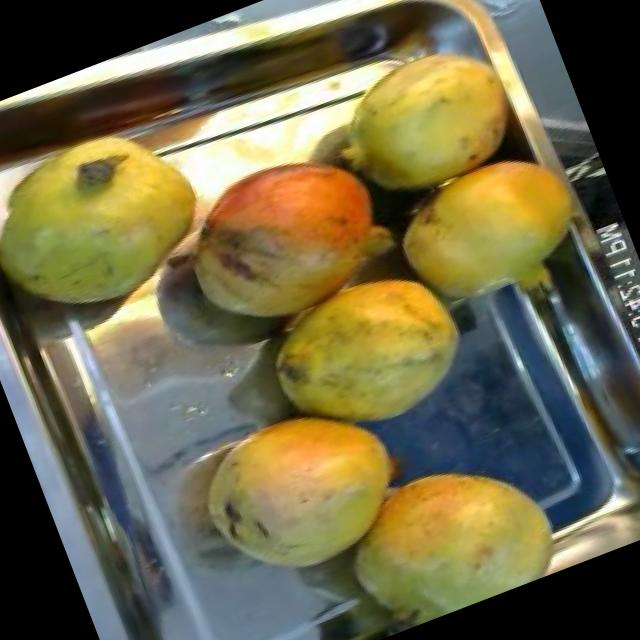fruit: (136, 110, 424, 367), (163, 370, 437, 615), (0, 82, 249, 349), (314, 416, 586, 640), (234, 238, 498, 468), (302, 16, 540, 225)
